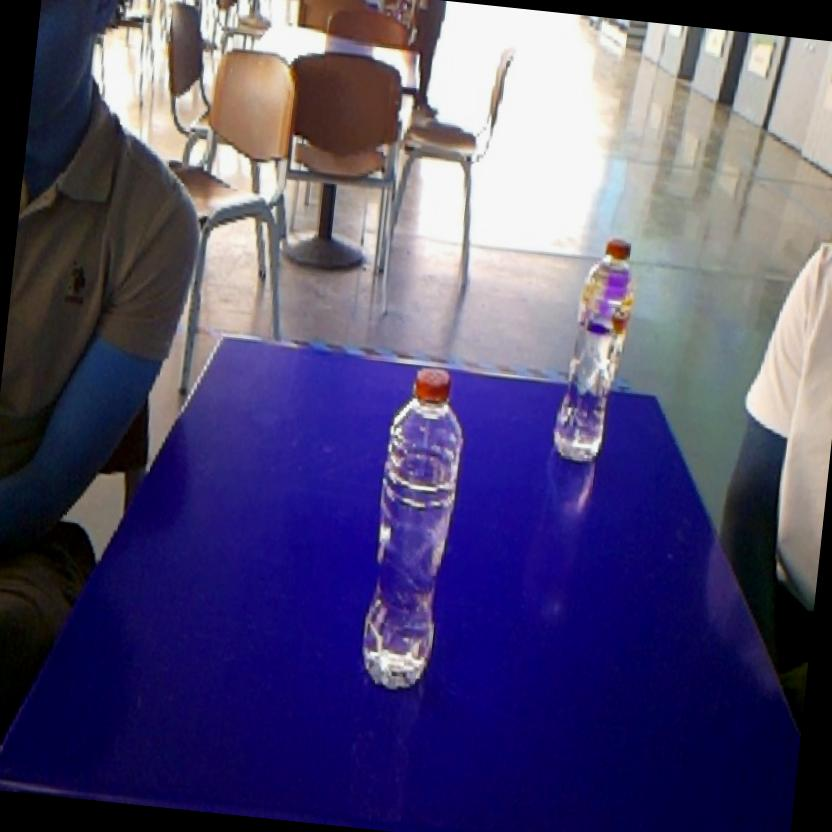good: (542, 224, 652, 474)
no_label: (340, 348, 486, 709)
